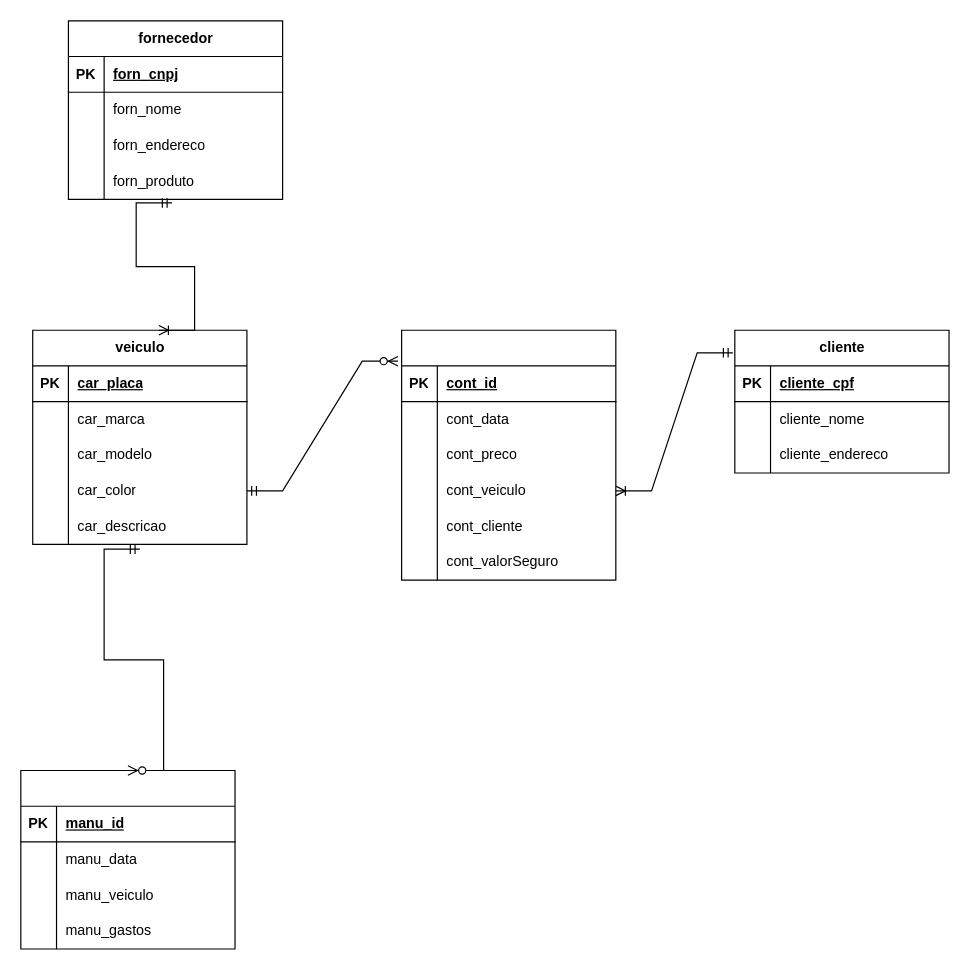
The diagram is 970 pixels wide and 970 high, and some of its shapes have lost their labels. The box of each missing label's shape, as (x1, y1, x2, y2) in pixels:
contrato: (400, 329, 616, 580)
manutencao: (20, 769, 235, 949)
